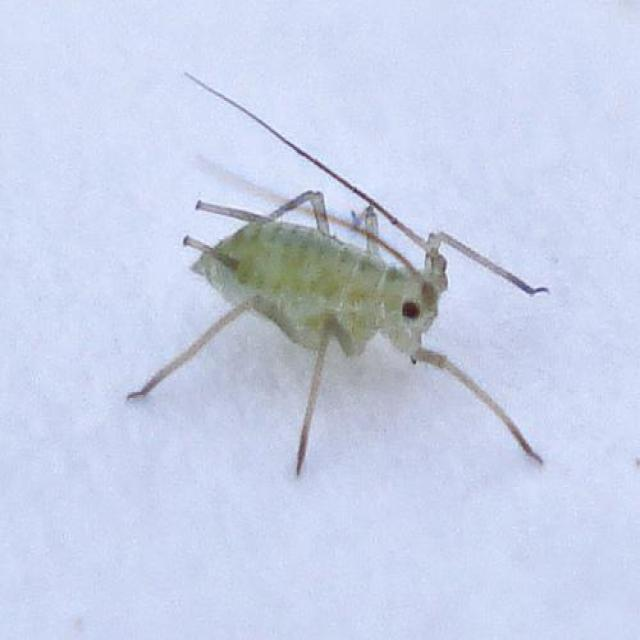aphid: (168, 90, 554, 507)
